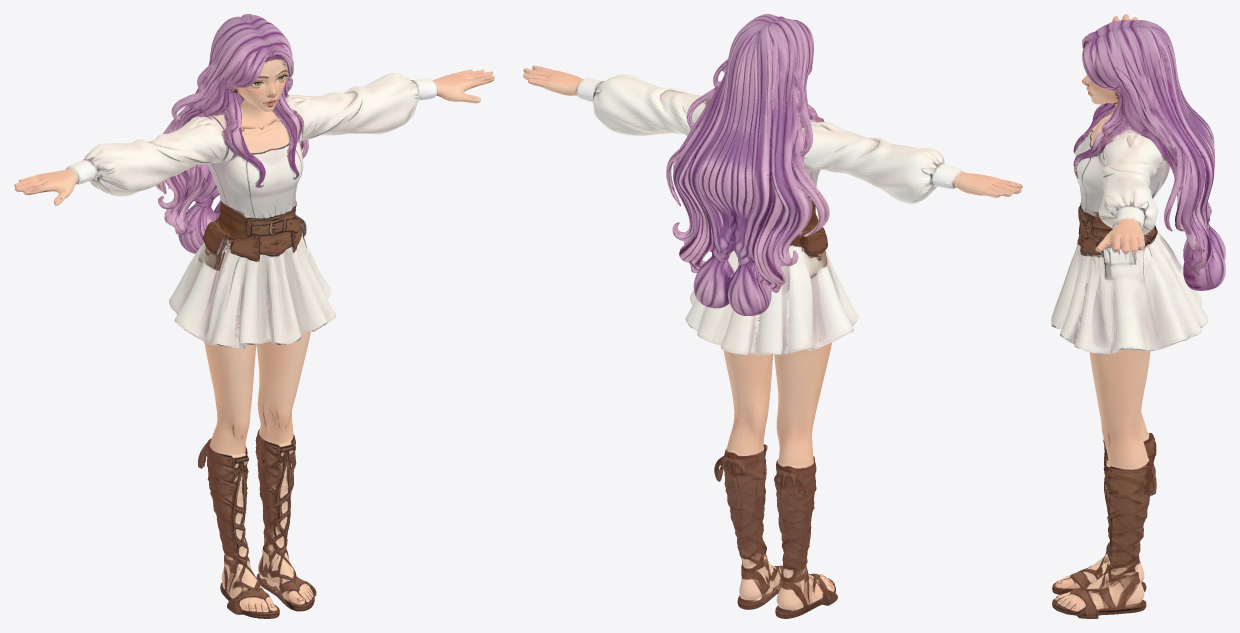
File: female-meshy-hq.glb
3 renders of one model, left to right at view 1: azimuth 30°, elevation 25°; view 2: azimuth 150°, elevation 25°; view 3: azimuth 270°, elevation 25°, orthographic. The views are drawn at different scales.
Visible parts, largest first — view 1: Mesh_0; view 2: Mesh_0; view 3: Mesh_0.
Boxes of the visible parts, x1,y1,x2,y2 form: Mesh_0: [14, 14, 494, 618]; Mesh_0: [523, 14, 1022, 618]; Mesh_0: [1051, 14, 1225, 618].
Size of the model in its own units: 1.69 by 1.91 by 0.5262.
Materials: 1 (1 with a texture image).
